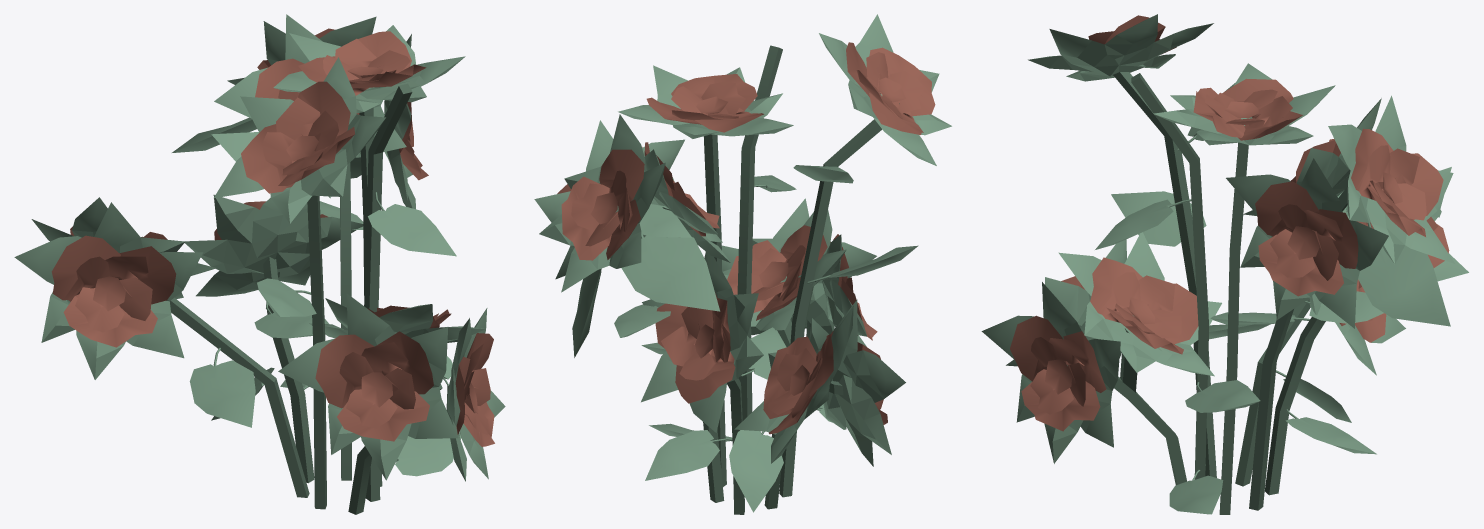
The model's file is RoseBush.fbx.
The picture shows the model from 3 angles, left to right: view 1: azimuth 30°, elevation 25°; view 2: azimuth 150°, elevation 25°; view 3: azimuth 270°, elevation 25°; orthographic projection. The views are drawn at different scales.
Visible parts, largest first — view 1: Roses, Stems, RoseLeaves; view 2: Roses, RoseLeaves, Stems; view 3: Roses, Stems, RoseLeaves.
Part boxes in pixels (x1=…): Roses: x1=14, y1=14, x2=505, y2=481; Stems: x1=170, y1=83, x2=442, y2=514; RoseLeaves: x1=172, y1=117, x2=461, y2=476; Roses: x1=534, y1=14, x2=951, y2=466; RoseLeaves: x1=572, y1=165, x2=918, y2=512; Stems: x1=703, y1=45, x2=899, y2=514; Roses: x1=981, y1=14, x2=1468, y2=463; Stems: x1=1113, y1=72, x2=1347, y2=514; RoseLeaves: x1=1080, y1=83, x2=1450, y2=514.
Bounding box in the file's own units: 76.61 × 88.08 × 83.58.
